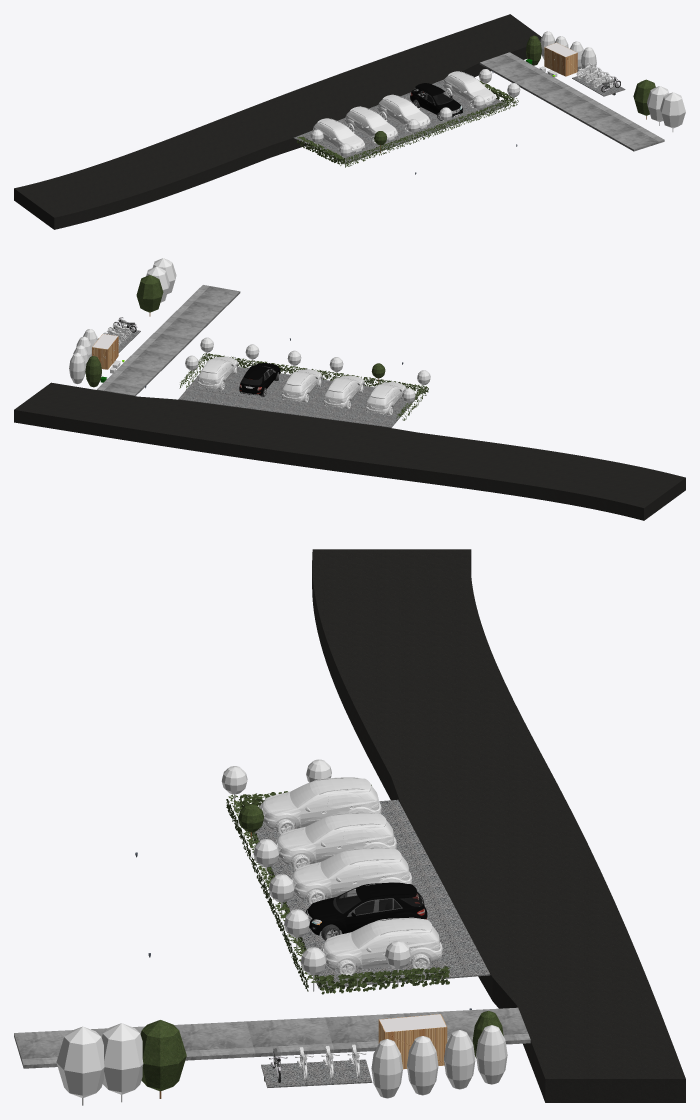
File: V34_Estacionamiento.fbx
3 renders of one model, top to bottom at view 1: azimuth 30°, elevation 25°; view 2: azimuth 150°, elevation 25°; view 3: azimuth 270°, elevation 25°, orthographic. The views are drawn at different scales.
Visible parts, largest first — view 1: Isla GOFRATTO (×2), MERCEDES - Mercedes GLC300 (×5), Polymesh 2, Modelo Árbol Conceptual 22 - Arbol (×4), Seto Modelo 22 - Arbol (×2), Polymesh 1; view 2: Isla GOFRATTO (×2), MERCEDES - Mercedes GLC300 (×5), Polymesh 2, Modelo Árbol Conceptual 22 - Arbol (×3), Seto Modelo 22 - Arbol; view 3: Isla GOFRATTO (×3), MERCEDES - Mercedes GLC300 (×5), Modelo Árbol Conceptual 22 - Arbol (×7), Polymesh 2, Seto Modelo 22 - Arbol (×2), Polymesh 1, MS - 034.
Part boxes in pixels (left/top/right/bottom): Isla GOFRATTO (×2): left=14, top=14, right=664, bottom=229; MERCEDES - Mercedes GLC300 (×5): left=312, top=71, right=495, bottom=153; Polymesh 2: left=294, top=79, right=507, bottom=163; Modelo Árbol Conceptual 22 - Arbol (×4): left=526, top=35, right=685, bottom=131; Seto Modelo 22 - Arbol (×2): left=297, top=98, right=518, bottom=167; Polymesh 1: left=572, top=71, right=625, bottom=96; Isla GOFRATTO (×2): left=14, top=285, right=685, bottom=520; MERCEDES - Mercedes GLC300 (×5): left=197, top=356, right=406, bottom=415; Polymesh 2: left=178, top=367, right=418, bottom=427; Modelo Árbol Conceptual 22 - Arbol (×3): left=69, top=275, right=163, bottom=387; Seto Modelo 22 - Arbol: left=202, top=353, right=428, bottom=395; Isla GOFRATTO (×3): left=14, top=549, right=685, bottom=1102; MERCEDES - Mercedes GLC300 (×5): left=259, top=777, right=442, bottom=975; Modelo Árbol Conceptual 22 - Arbol (×7): left=56, top=1020, right=507, bottom=1105; Polymesh 2: left=252, top=799, right=490, bottom=988; Seto Modelo 22 - Arbol (×2): left=226, top=794, right=450, bottom=994; Polymesh 1: left=261, top=1059, right=372, bottom=1087; MS - 034: left=385, top=1027, right=447, bottom=1069.
Size of the model in its own units: 4931 by 2544 by 359.
Materials: 122 (91 with a texture image).
